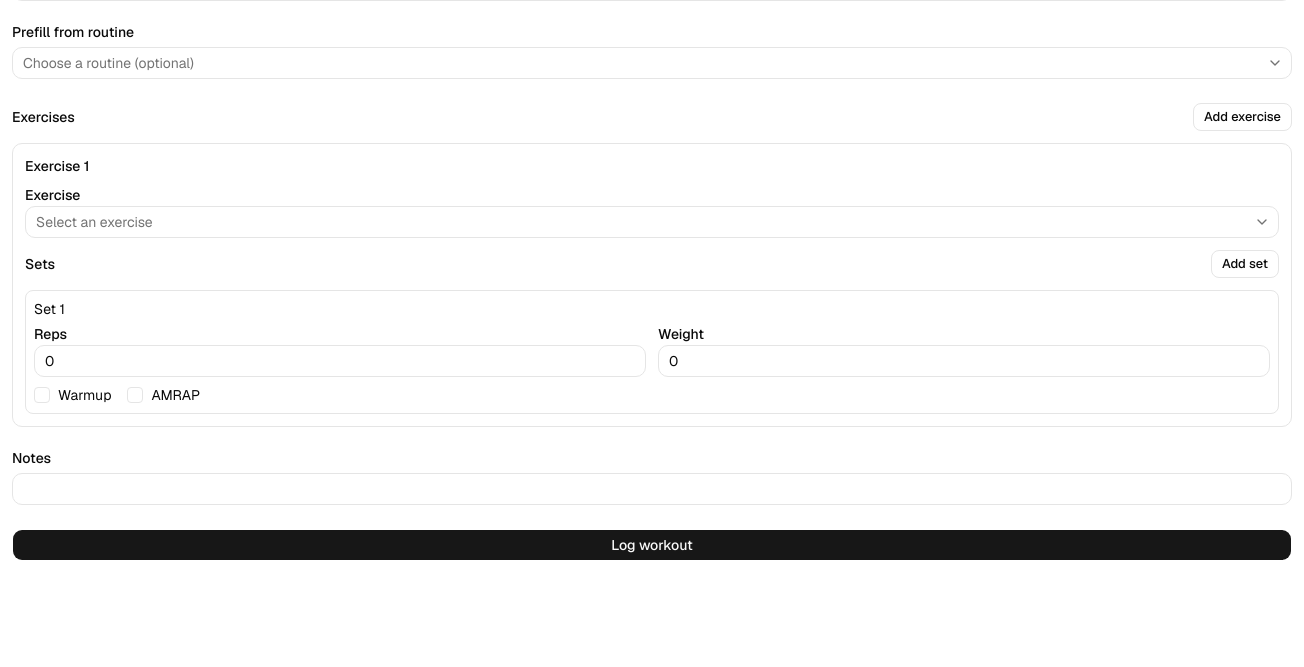
Test: LogWorkoutForm › routine prefill › replaces the exercise blocks with the routine’s exercises and target sets/reps
The image size is (1304, 667).
Click the dropdown named "prefill from routine" at (108, 63), box top-left (12, 47), bottom-right (1292, 79)
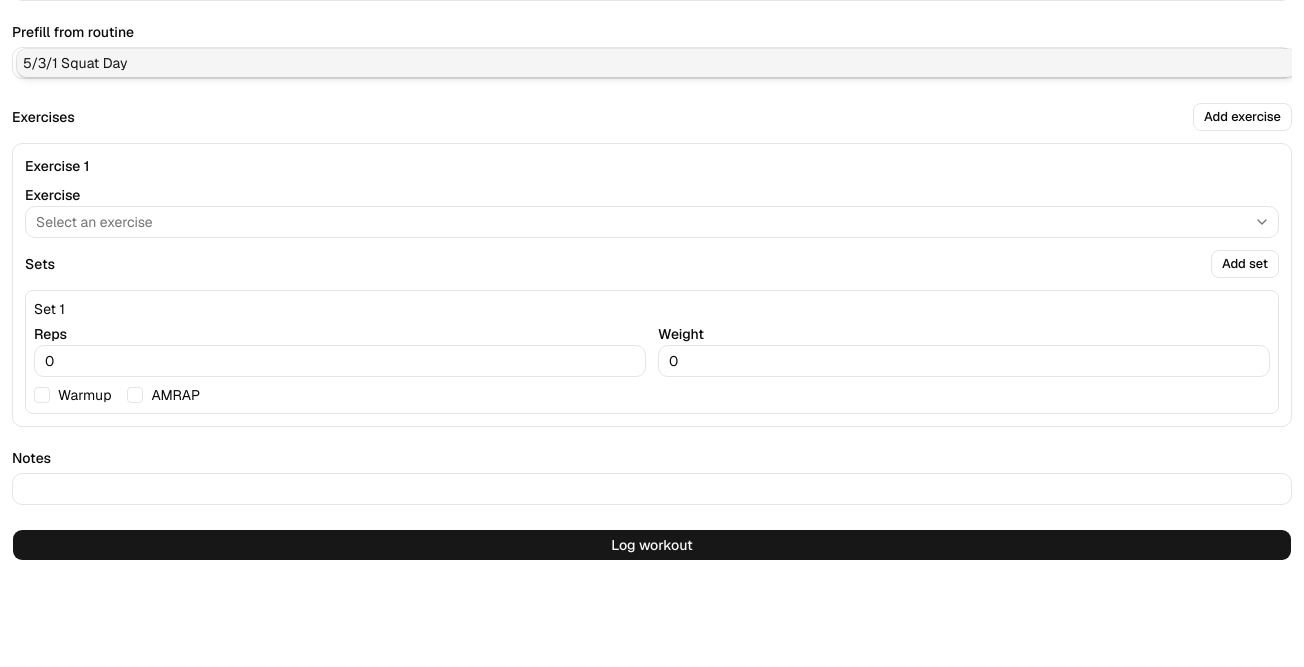
Click the option "5/3/1 Squat Day" at (75, 63), box top-left (17, 49), bottom-right (1292, 77)
(page scrolled)
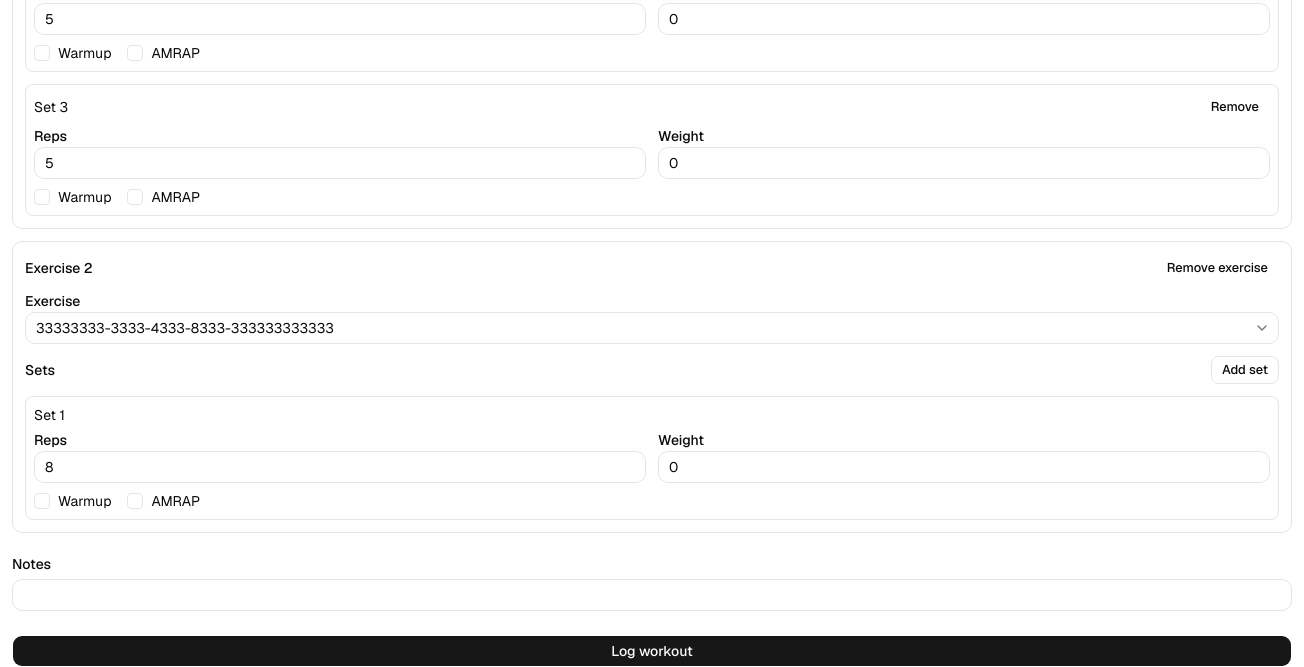
Check: the text "Set 1" is shown once, box top-left (34, 405), bottom-right (65, 425)
Check: the 3rd number field labelled "Reps" holds "8", box top-left (34, 451), bottom-right (646, 483)
